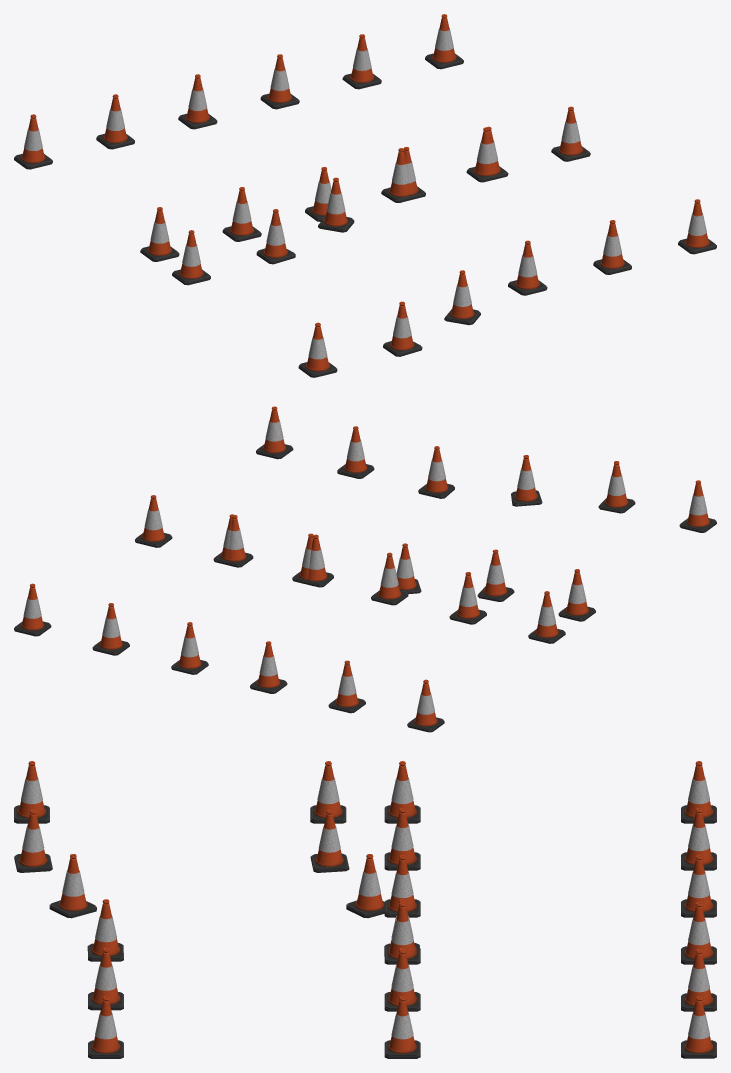
Rendered from ConeLine.fbx.
3 views of the same model, one above another, from view 1: azimuth 30°, elevation 25°; view 2: azimuth 150°, elevation 25°; view 3: azimuth 270°, elevation 25° (orthographic). The views are drawn at different scales.
Parts seen in each view (by area): view 1: g; view 2: g; view 3: g.
Part boxes in pixels (<box>): g: <box>14,14,716,377</box>; g: <box>14,406,716,732</box>; g: <box>14,761,716,1058</box>.
Size of the model in its own units: 1998 by 200 by 2371.
Materials: 1 (1 with a texture image).
